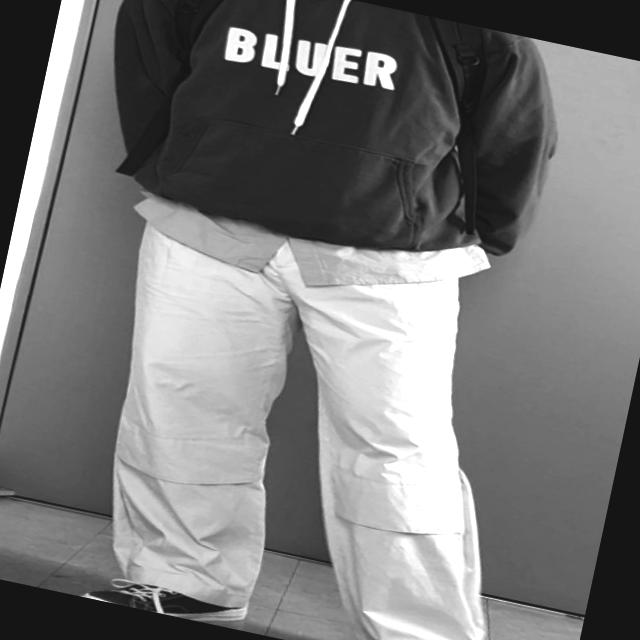cottonpants: (62, 198, 556, 640)
hoodies: (78, 0, 568, 300)
